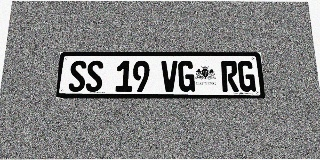1: (115, 61, 133, 92)
9: (133, 61, 150, 92)
G: (237, 61, 256, 92), (178, 61, 195, 92)
R: (221, 61, 239, 92)
S: (68, 61, 87, 92), (85, 61, 104, 92)
V: (161, 61, 178, 92)
